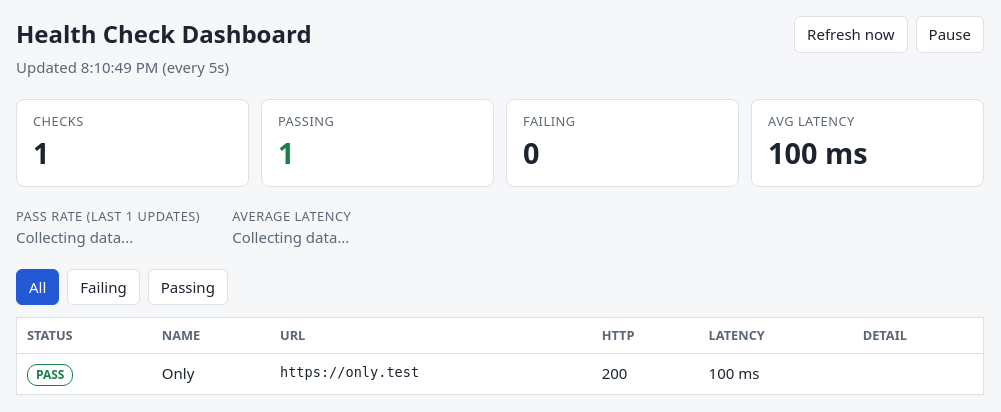
Scenario: App › shows the empty message when the filter matches nothing
expect the text "Only" is shown: met, box x1=152 y1=354 x2=270 y2=395
Click the button "Failing" at (103, 287), box x1=67 y1=269 x2=140 y2=305
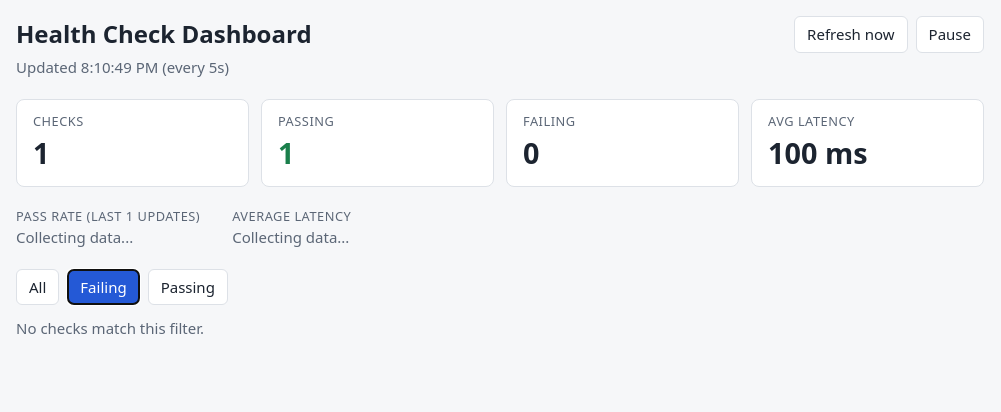
expect the text "No checks match this filter." is shown: met, box x1=16 y1=318 x2=204 y2=338
